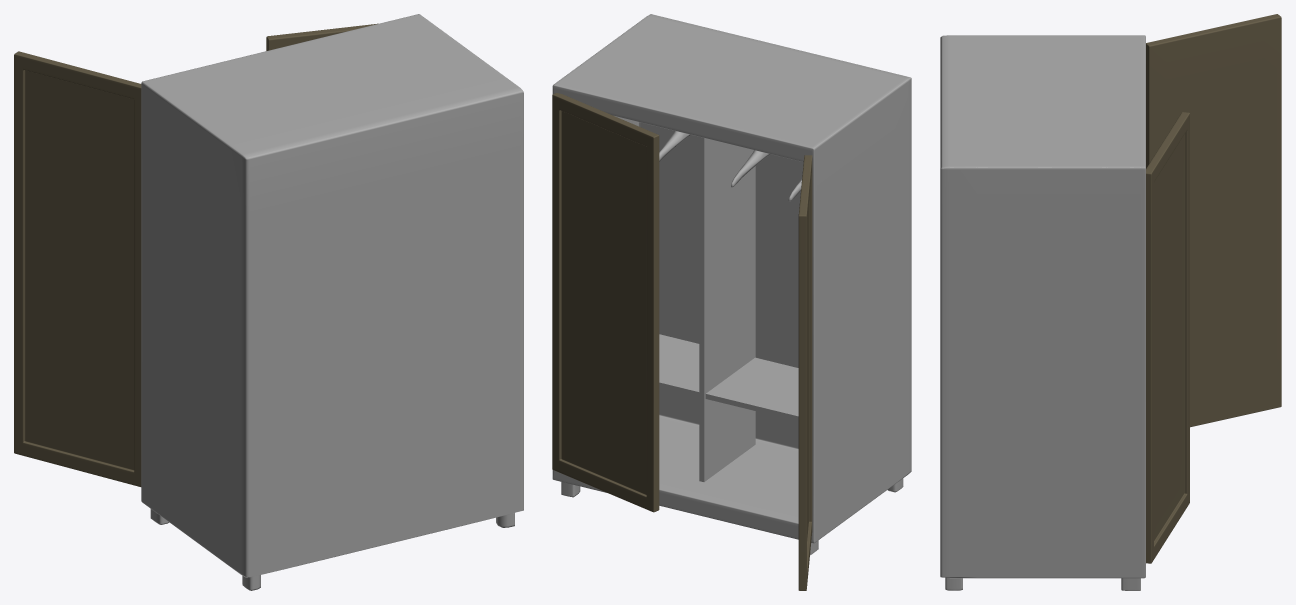
File: Cupboard.fbx
The picture shows the model from 3 angles, left to right: view 1: azimuth 30°, elevation 25°; view 2: azimuth 150°, elevation 25°; view 3: azimuth 270°, elevation 25°; orthographic projection. The views are drawn at different scales.
Visible parts, largest first — view 1: Cupboard; view 2: Cupboard; view 3: Cupboard.
Boxes of the visible parts, x1,y1,x2,y2 form: Cupboard: (14, 14, 523, 590); Cupboard: (552, 14, 911, 590); Cupboard: (940, 14, 1281, 590).
Bounding box in the file's own units: 243 × 301 × 218.
